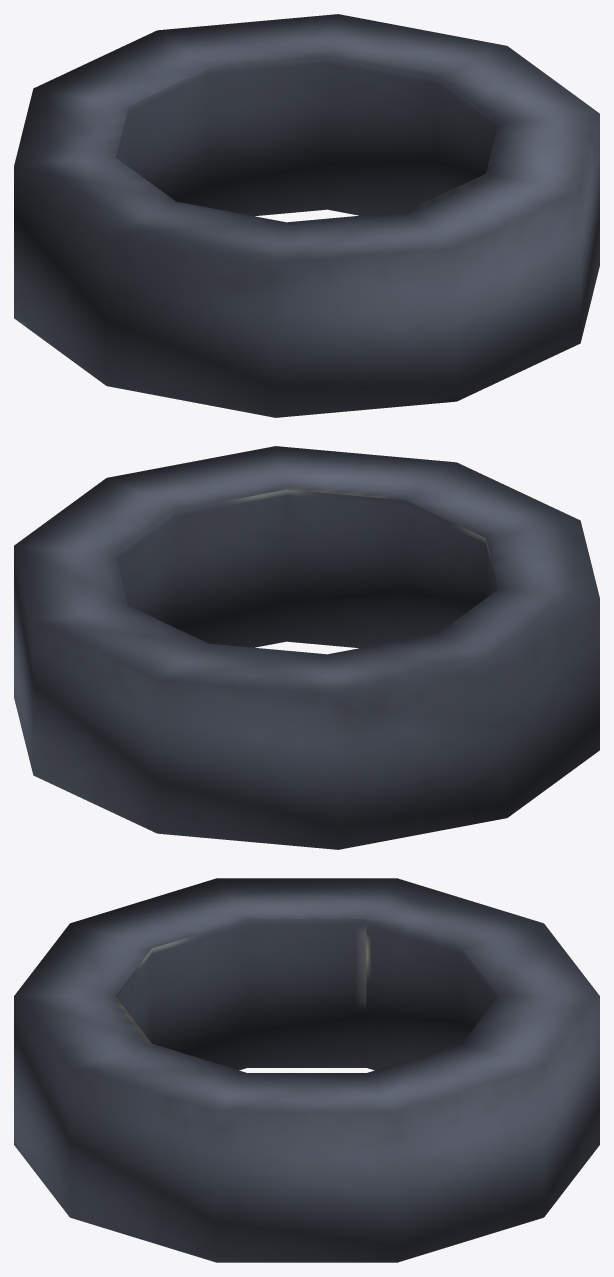
The model's file is prop_stell_ring.glb.
The picture shows the model from 3 angles, top to bottom: view 1: azimuth 30°, elevation 25°; view 2: azimuth 150°, elevation 25°; view 3: azimuth 270°, elevation 25°; orthographic projection. The views are drawn at different scales.
Parts seen in each view (by area): view 1: prop_stell_ring; view 2: prop_stell_ring; view 3: prop_stell_ring.
Part boxes in pixels (left/top/right/bottom): prop_stell_ring: left=14, top=14, right=599, bottom=417; prop_stell_ring: left=14, top=446, right=599, bottom=849; prop_stell_ring: left=14, top=878, right=599, bottom=1262.
Bounding box in the file's own units: 0.3424 × 0.1008 × 0.36.
1 material, 1 textured.
